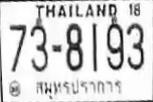1: (91, 22, 97, 70)
3: (30, 22, 48, 71), (126, 22, 144, 69)
7: (8, 23, 26, 71)
8: (65, 22, 82, 70)
9: (106, 22, 123, 70)
SPK: (34, 75, 125, 99)
